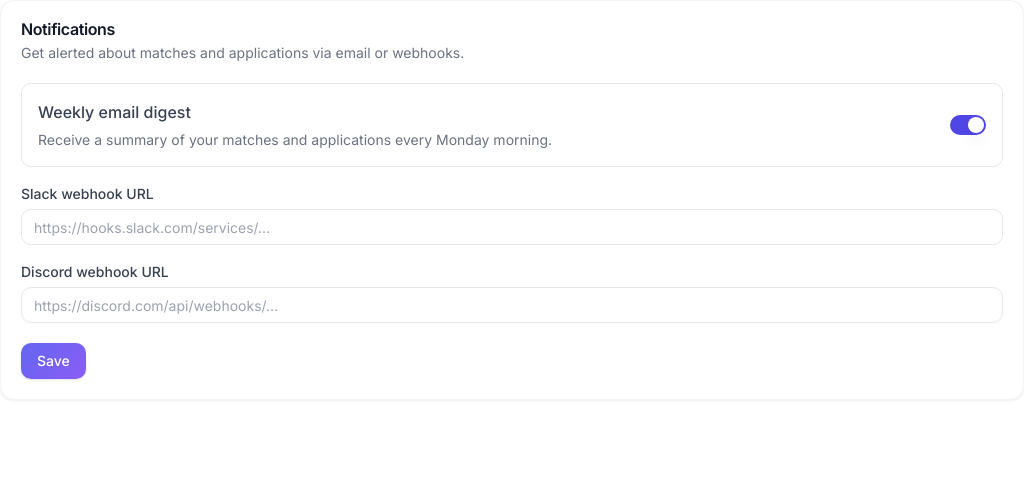
Test: NotificationsForm › shows success message after saving
Check: the switch is shown, box [950, 115, 986, 135]
Click the button "Save" at (53, 361), box [21, 343, 86, 379]
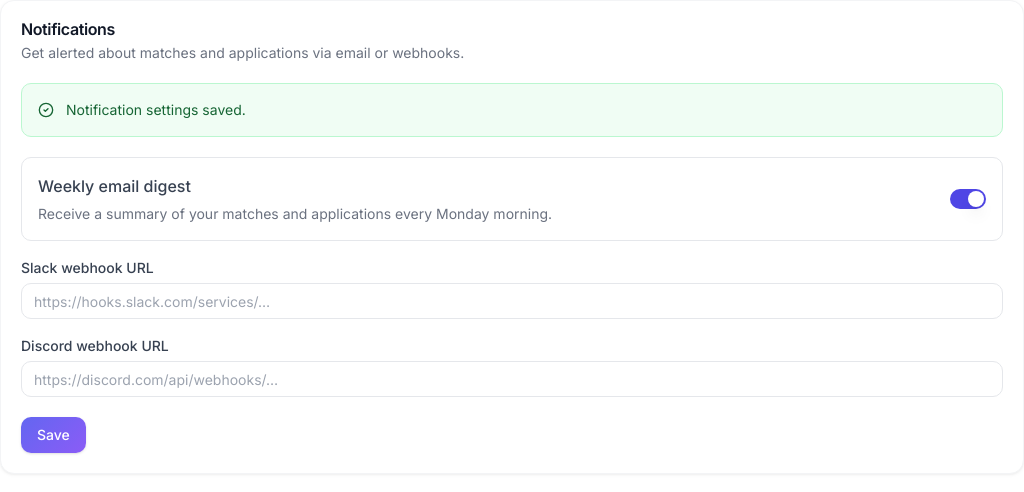
Check: the text "Notification settings saved." is shown, box [66, 101, 246, 118]
